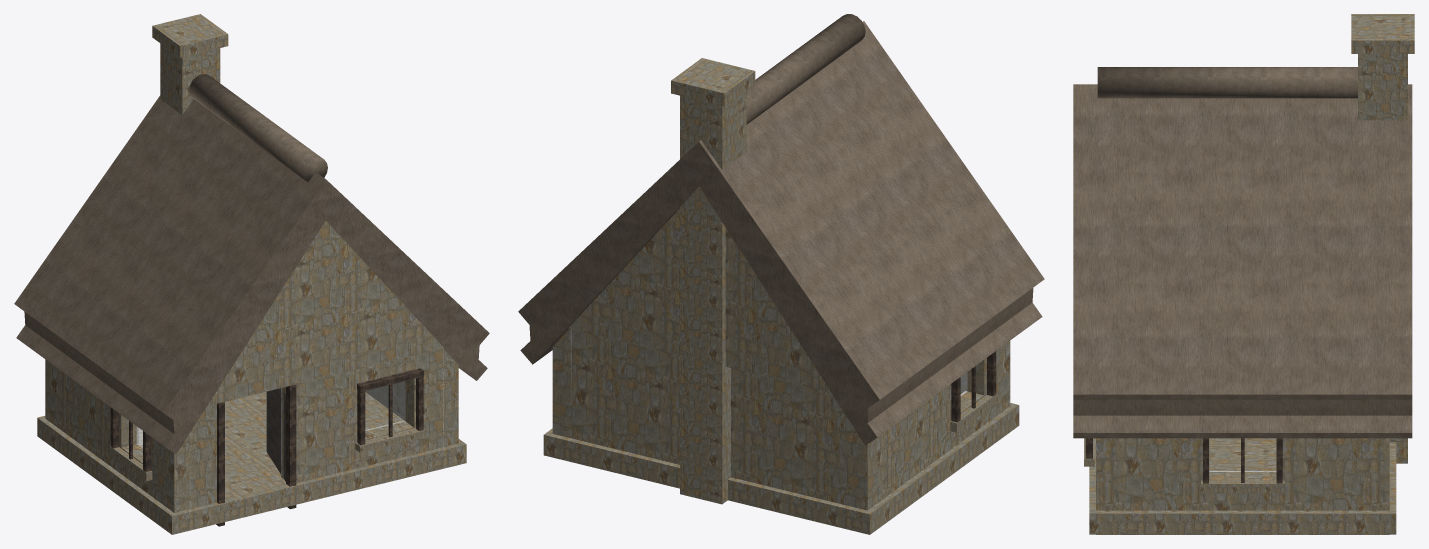
The model's file is prop_cottage_v2.glb.
3 renders of one model, left to right at view 1: azimuth 30°, elevation 25°; view 2: azimuth 150°, elevation 25°; view 3: azimuth 270°, elevation 25°, orthographic. The views are drawn at different scales.
Parts seen in each view (by area): view 1: building_cottage_v2; view 2: building_cottage_v2; view 3: building_cottage_v2.
Part boxes in pixels (x1,y1,x2,y2): building_cottage_v2: (14,14,489,534); building_cottage_v2: (518,14,1044,534); building_cottage_v2: (1073,14,1414,534).
Bounding box in the file's own units: 6.43 × 7.12 × 5.11.
Materials: 5 (5 with a texture image).
